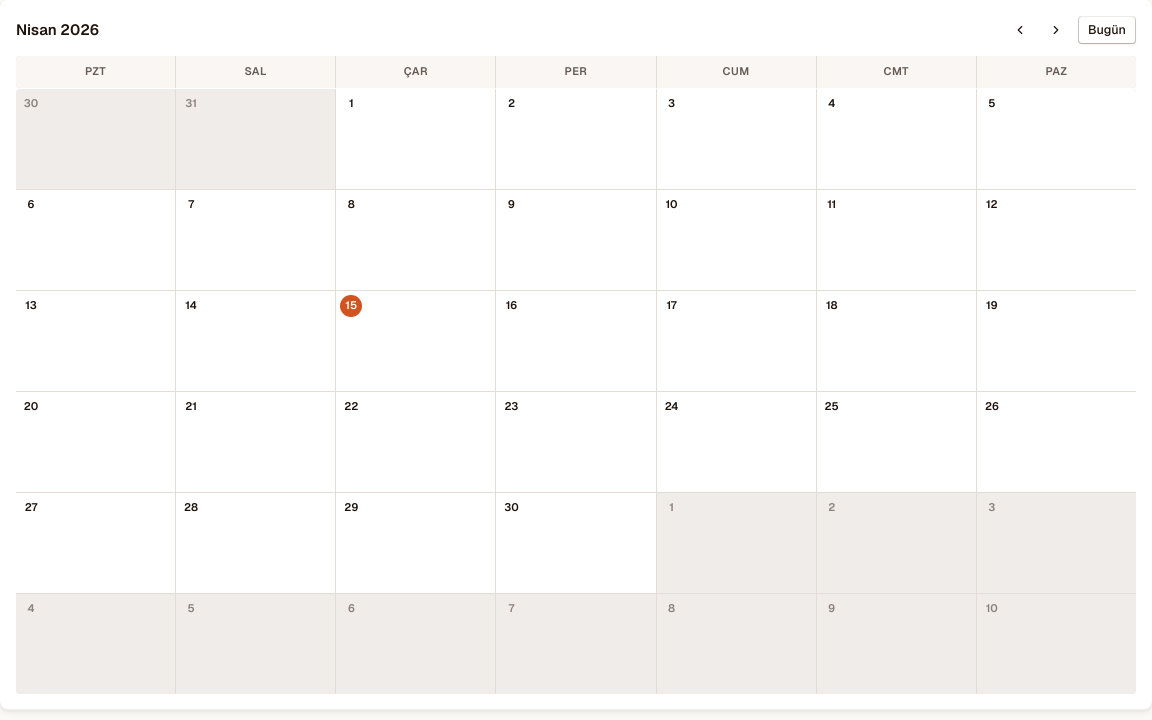
Test: CalendarTab › Today button resets navigation to the current month
Note: Navigate away and back
Click the button named "Next".
click(1056, 30)  # box [1042,16,1070,44]
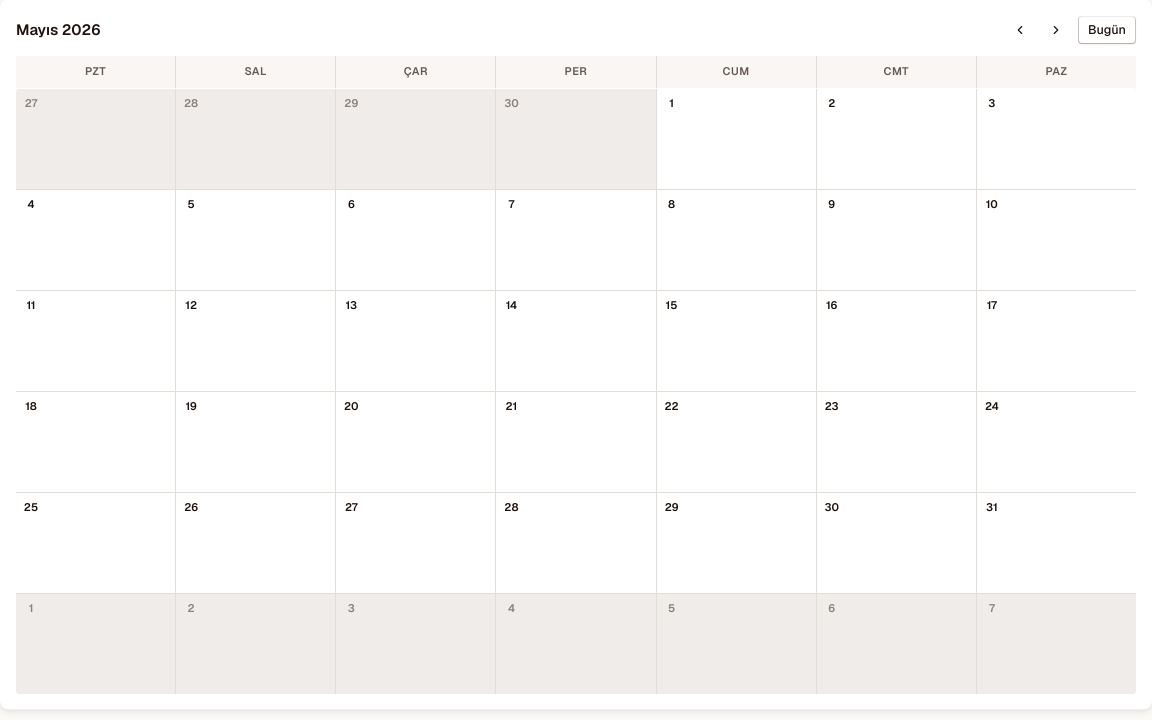
Click the button "Bugün".
click(1107, 30)  # box [1078,16,1136,44]
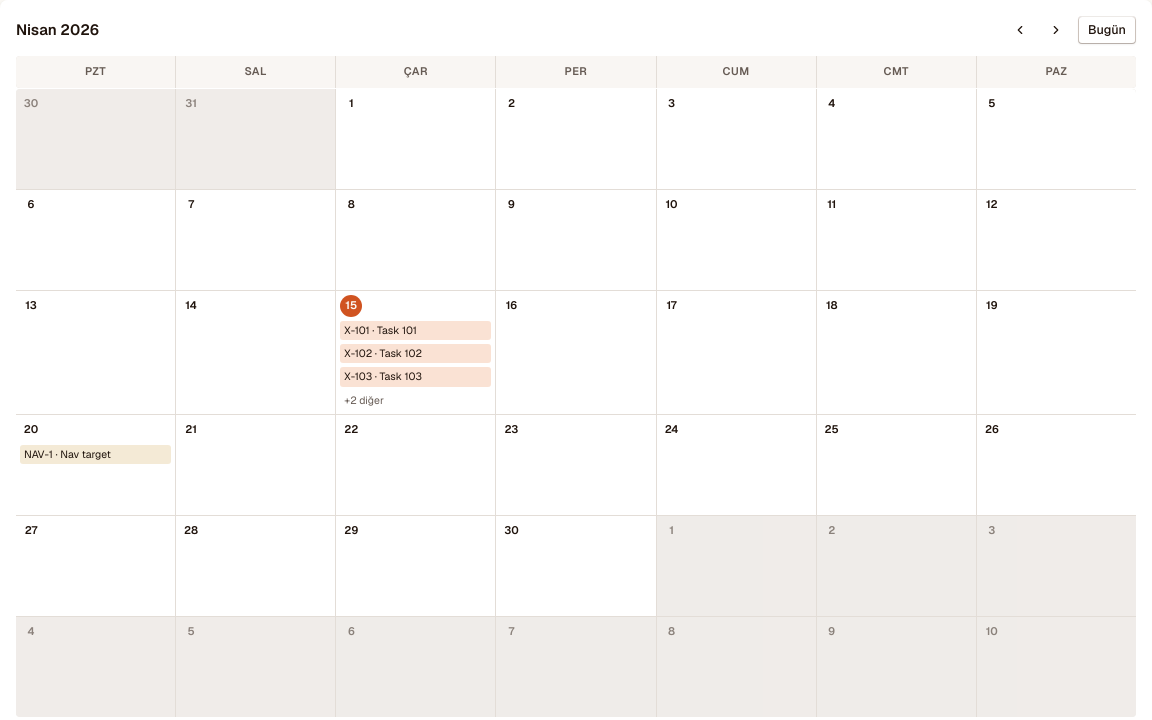
Result: the text "Nisan 2026" is shown at [16,19,99,41]
